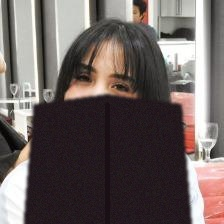Cadar_Niqab: (24, 12, 192, 224)
